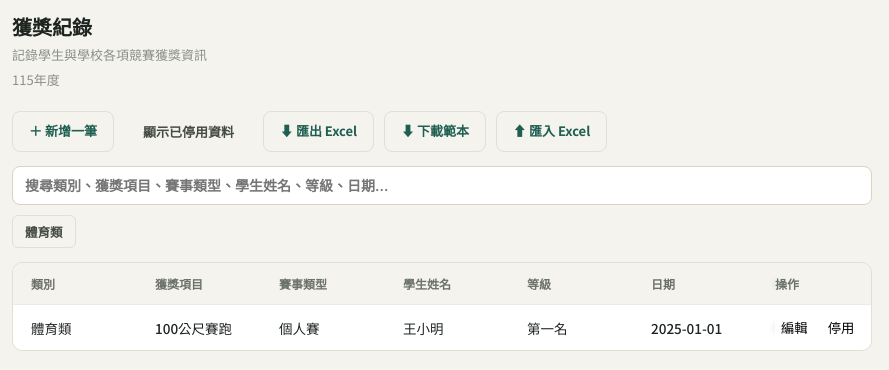
Test: Generic record list search and category filter › shows a "no match" message instead of "尚無資料" when a filter matches nothing but records exist
The width and height of the screenshot is (889, 370).
In the search field named "搜尋": (442, 186) [12,166,872,205], type "不存在的關鍵字"
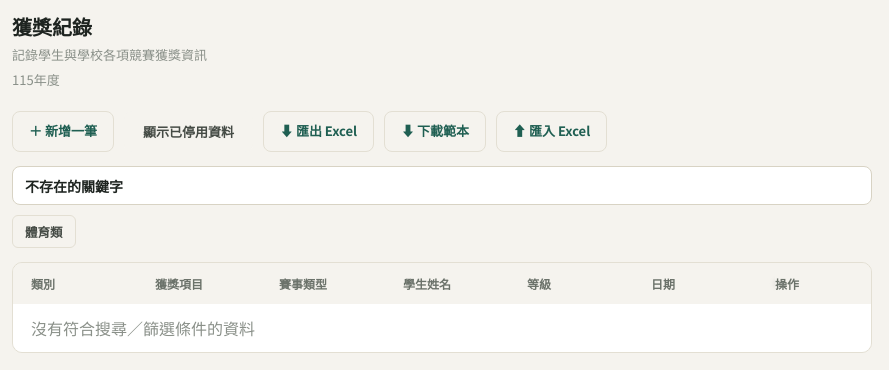
Expected: the text "沒有符合搜尋／篩選條件的資料" is shown, [31,316,255,340]
